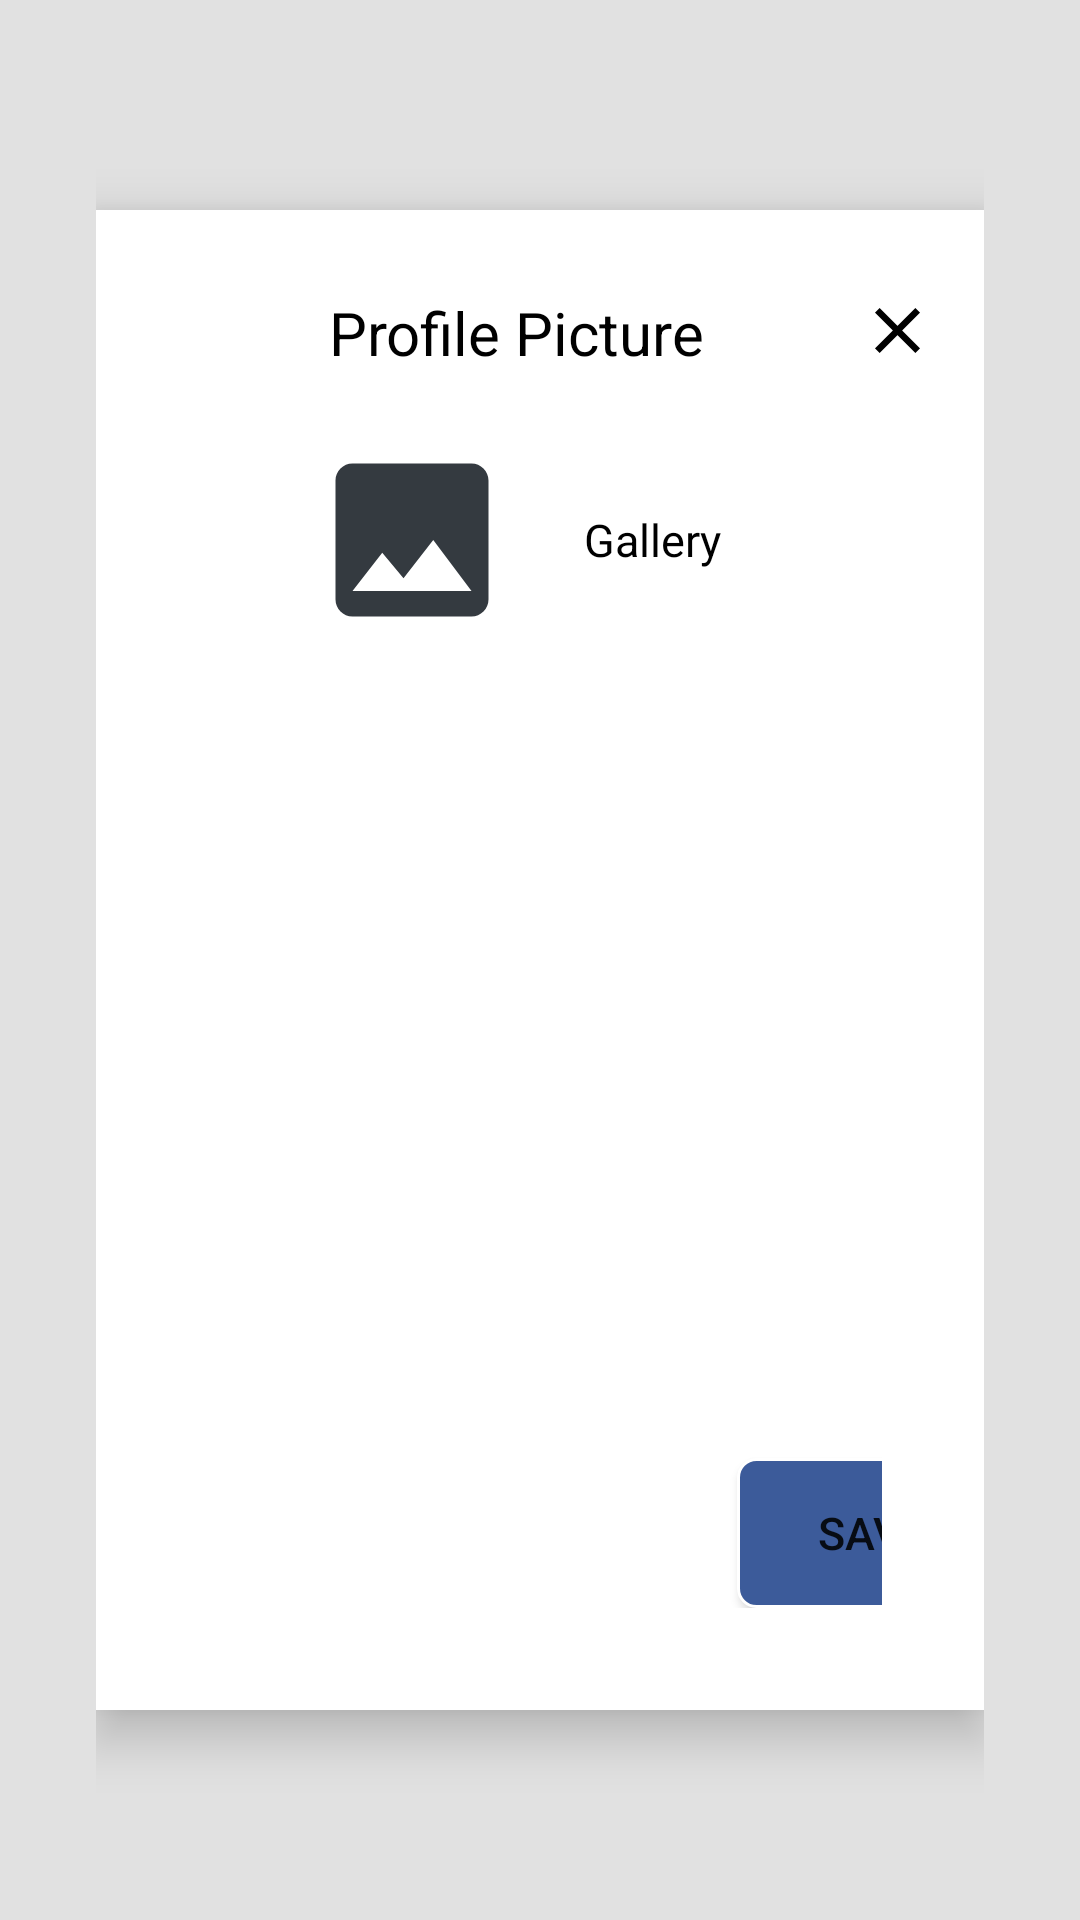

Icon click points for this 1080 × 1920 phone screenshot, format (x=x, y=y):
close: (x=897, y=330)
photo: (x=412, y=540)
